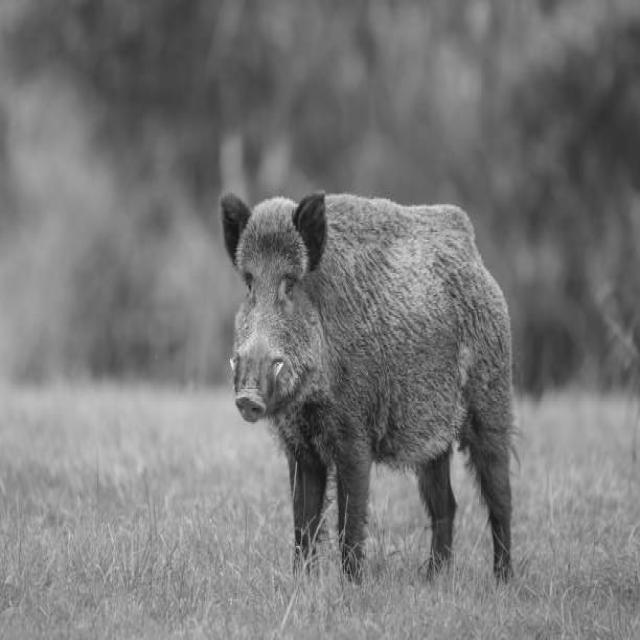boar: (220, 190, 511, 577)
